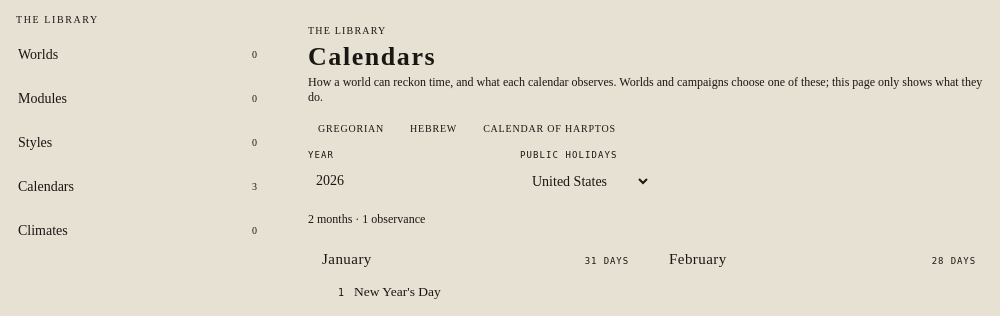
Test: the region control only appears for calendars that take one
The width and height of the screenshot is (1000, 316).
Expected: the text "January" is shown, [322,251,372,268]
Expected: the dropdown labelled "Public holidays" is shown, [520,164,651,198]
Click the button "Calendar of Harptos" at (550, 129), box [473,119,626,138]
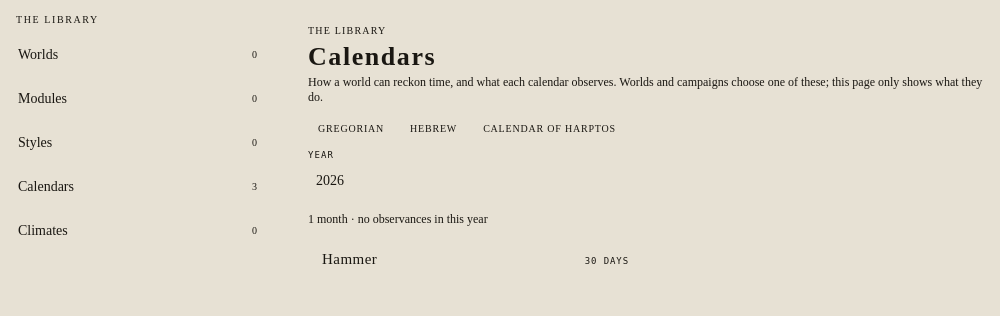
Now the text "Hammer" is shown, box [322,251,377,268]
Now the label labelled "Public holidays" is gone
